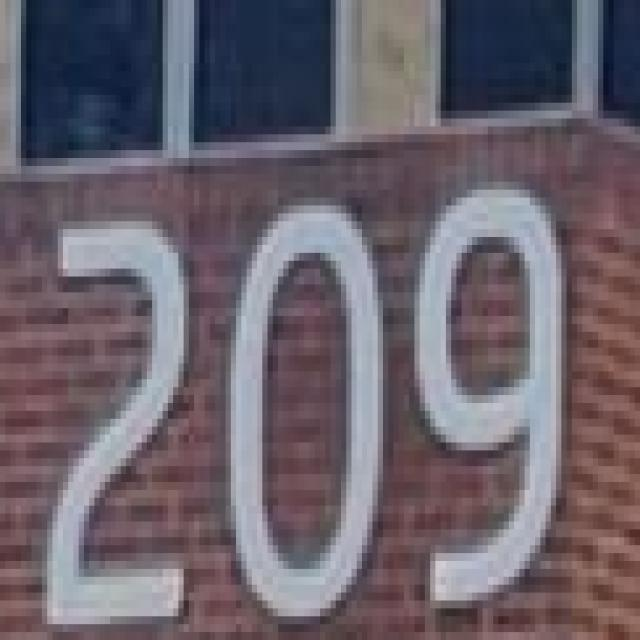character: (221, 194, 391, 632), (410, 184, 573, 618), (37, 210, 195, 632)
